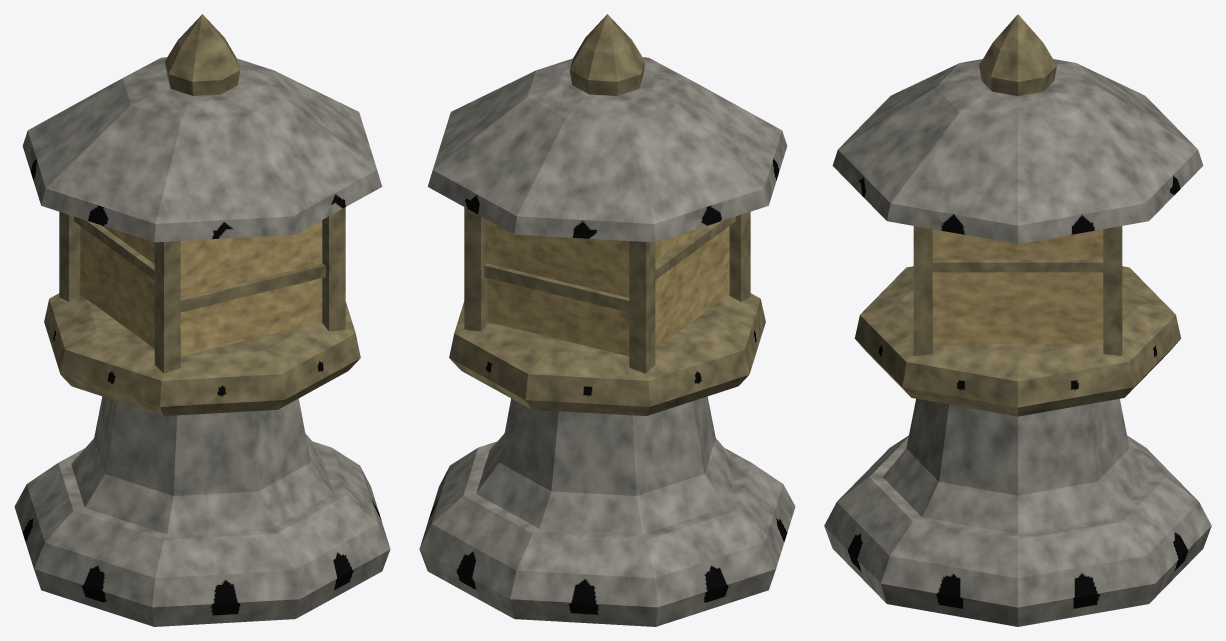
Rendered from CanalLantern_LOD0.fbx.
3 views of the same model, side by side, from view 1: azimuth 30°, elevation 25°; view 2: azimuth 150°, elevation 25°; view 3: azimuth 270°, elevation 25° (orthographic).
Visible parts, largest first — view 1: CanalLantern; view 2: CanalLantern; view 3: CanalLantern.
Part boxes in pixels (bbox=[...]): CanalLantern: bbox=[14, 14, 390, 626]; CanalLantern: bbox=[419, 14, 795, 626]; CanalLantern: bbox=[824, 14, 1211, 626].
Bounding box in the file's own units: 0.368 × 0.56 × 0.368.
1 material, 1 textured.
